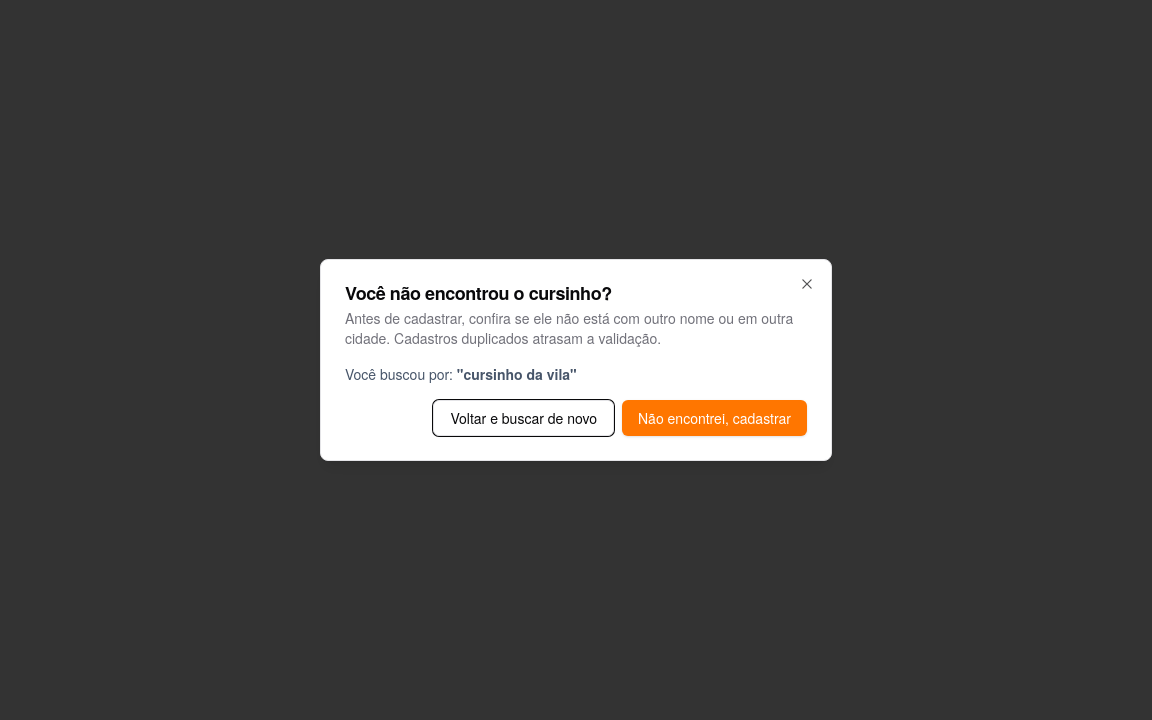
Test: ModalNaoEncontrei (card 08) › com termo: mostra o termo, e cadastrar leva o nome ao formulário
This screenshot has width=1152, height=720.
Expected: the dialog "Você não encontrou o cursinho?" is shown, x1=320 y1=259 x2=832 y2=461
Expected: the text "\"cursinho da vila\"" is shown, x1=457 y1=364 x2=577 y2=384
Click the button "Não encontrei, cadastrar": [715, 418] box x1=622 y1=400 x2=807 y2=436
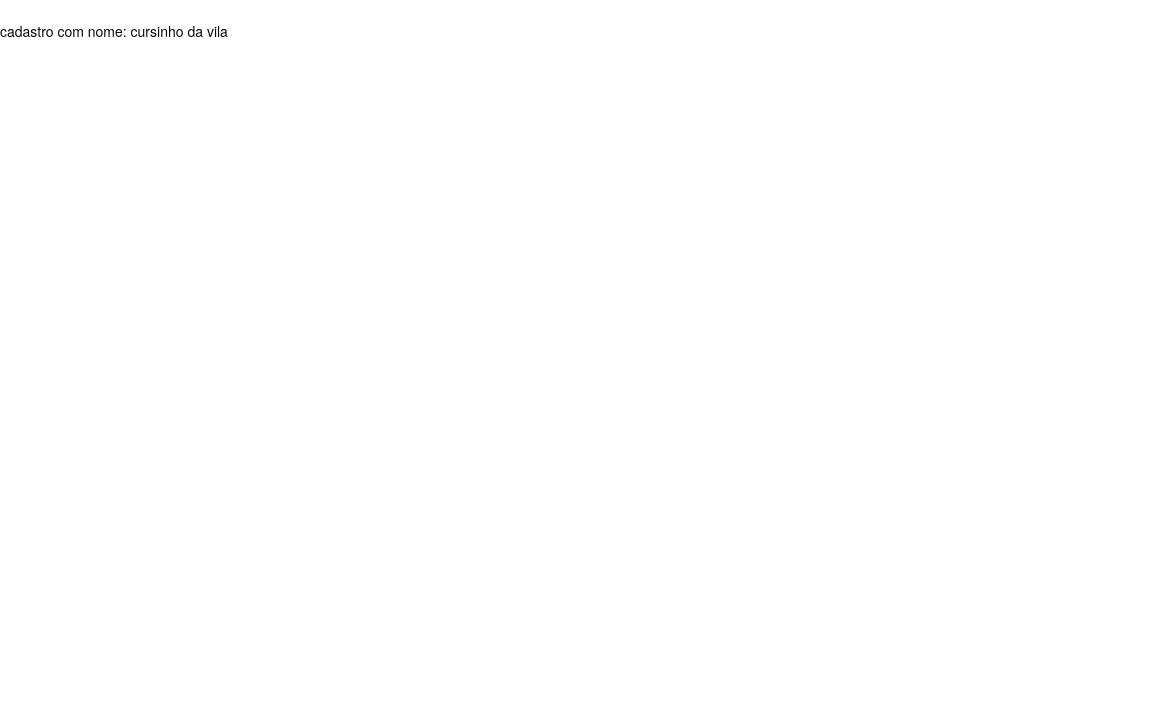
Expected: the text "cadastro com nome: cursinho da vila" is shown, x1=0 y1=21 x2=228 y2=41
